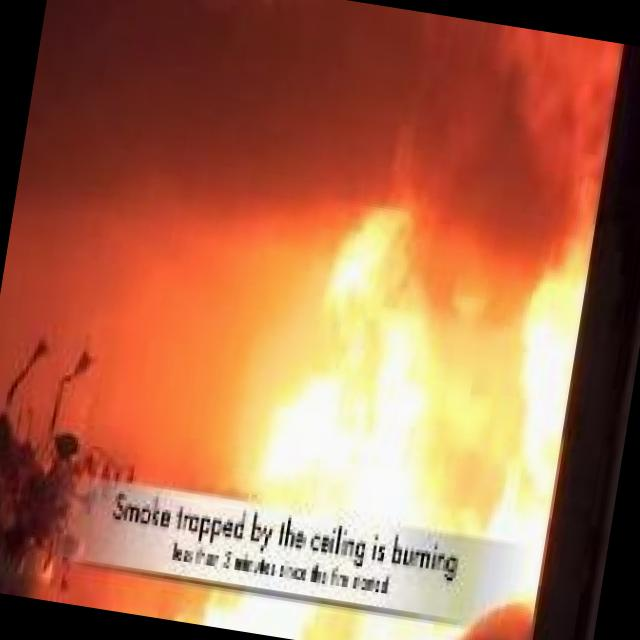fire: (286, 202, 598, 543)
smoke: (25, 0, 618, 279)
